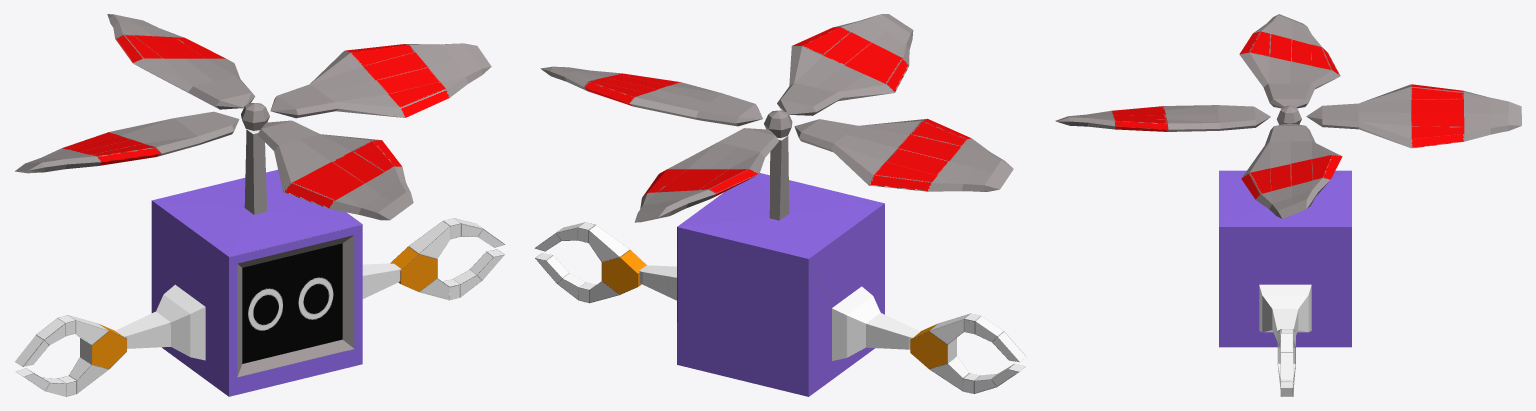
File: player.fbx
3 renders of one model, left to right at view 1: azimuth 30°, elevation 25°; view 2: azimuth 150°, elevation 25°; view 3: azimuth 270°, elevation 25°, orthographic. The views are drawn at different scales.
Visible parts, largest first — view 1: PLAYER_BODY, PLAYER_PROPELLER, PLAYER_ARM; view 2: PLAYER_BODY, PLAYER_PROPELLER, PLAYER_ARM; view 3: PLAYER_PROPELLER, PLAYER_BODY, PLAYER_ARM.
Part boxes in pixels (x1=…): PLAYER_BODY: x1=115, y1=129, x2=401, y2=396; PLAYER_PROPELLER: x1=15, y1=14, x2=491, y2=220; PLAYER_ARM: x1=15, y1=218, x2=504, y2=396; PLAYER_BODY: x1=639, y1=136, x2=919, y2=396; PLAYER_PROPELLER: x1=540, y1=14, x2=1013, y2=222; PLAYER_ARM: x1=534, y1=222, x2=1026, y2=393; PLAYER_PROPELLER: x1=1055, y1=14, x2=1521, y2=218; PLAYER_BODY: x1=1219, y1=170, x2=1351, y2=347; PLAYER_ARM: x1=1277, y1=329, x2=1295, y2=396.
Bounding box in the file's own units: 285 × 139 × 274.
